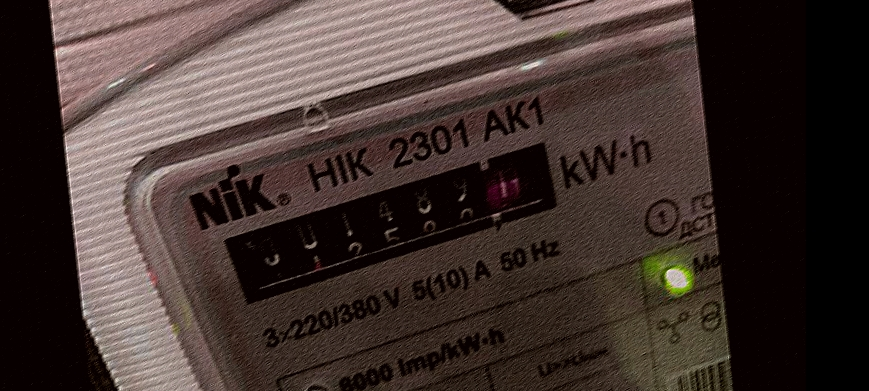0: (291, 213, 320, 252), (254, 231, 282, 268)
1: (489, 160, 512, 200), (334, 205, 357, 238)
4: (371, 191, 396, 224)
8: (410, 179, 434, 217)
9: (448, 169, 471, 203)
screen: (204, 127, 593, 317)
